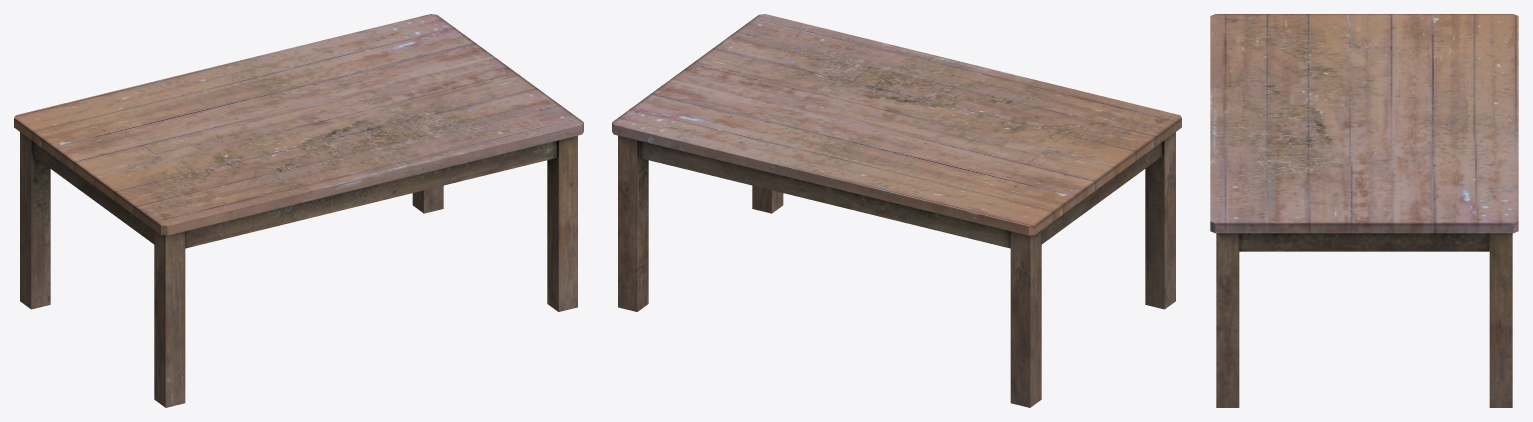
File: DiningTable.FBX
3 renders of one model, left to right at view 1: azimuth 30°, elevation 25°; view 2: azimuth 150°, elevation 25°; view 3: azimuth 270°, elevation 25°, orthographic.
Visible parts, largest first — view 1: DiningTable; view 2: DiningTable; view 3: DiningTable.
Boxes of the visible parts, box(x1,y1,x2,y2) form: DiningTable: box(14, 14, 583, 407); DiningTable: box(612, 14, 1181, 407); DiningTable: box(1210, 14, 1518, 407).
Bounding box in the file's own units: 205 × 85.21 × 127.
1 material, 1 textured.
